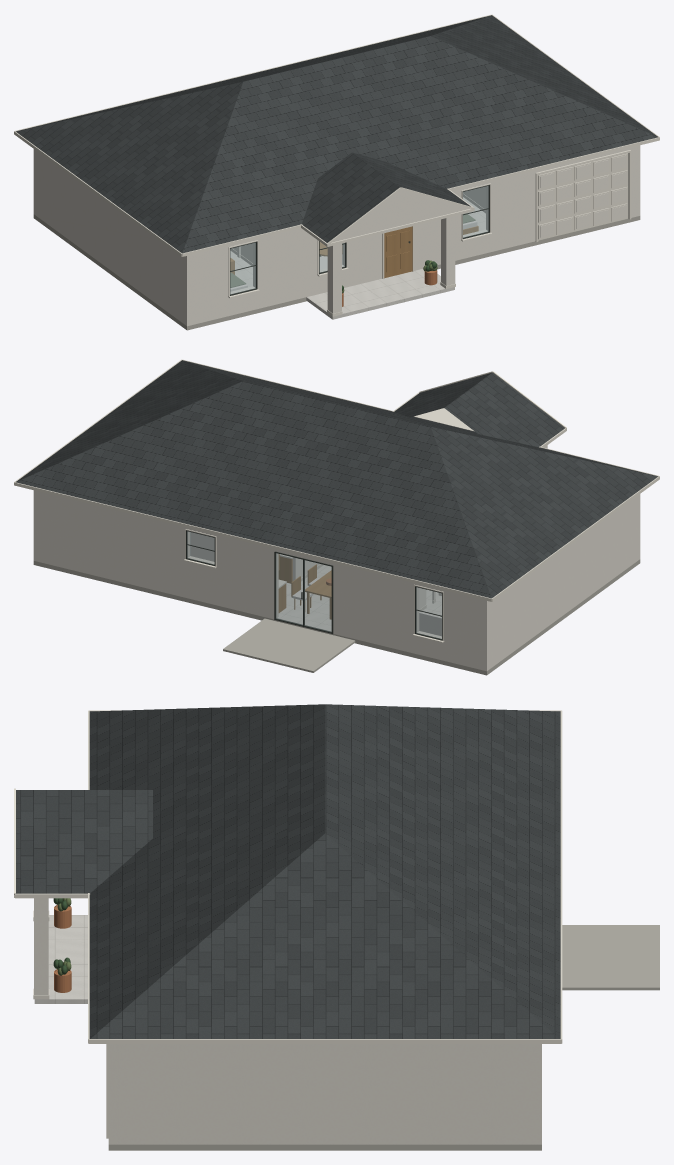
File: bell.glb
3 renders of one model, top to bottom at view 1: azimuth 30°, elevation 25°; view 2: azimuth 150°, elevation 25°; view 3: azimuth 270°, elevation 25°, orthographic. The views are drawn at different scales.
Parts seen in each view (by area): view 1: 90 Cubierta principal · ocultable, 10 Fachada delantera, 12 Fachada izquierda, 47 Puerta garaje, 92 Cubierta porche · ocultable, 91 Fascia principal · ocultable, 01 Porche de entrada, 93 Tímpano porche · ocultable, 41 Vidrios, 00 Losa principal, 50 Columnas porche, 45 Acceso principal (+4 smaller); view 2: 90 Cubierta principal · ocultable, 11 Fachada posterior, 12 Fachada izquierda, 92 Cubierta porche · ocultable, 41 Vidrios, 02 Patio posterior 10 × 8 pies, 91 Fascia principal · ocultable, 00 Losa principal, 03 Piso interior, 64 Comedor · mobiliario, 44 Puerta corrediza posterior, 65 Cocina · mobiliario (+4 smaller); view 3: 90 Cubierta principal · ocultable, 13 Fachada derecha, 92 Cubierta porche · ocultable, 02 Patio posterior 10 × 8 pies, 91 Fascia principal · ocultable, 00 Losa principal, 01 Porche de entrada, 50 Columnas porche, 71 Macetas de porche, 10 Fachada delantera, 11 Fachada posterior, 95 Fascia porche · ocultable.
Boxes of the visible parts, x1,y1,x2,y2 form: 90 Cubierta principal · ocultable: (16,15,657,253); 10 Fachada delantera: (183,145,640,326); 12 Fachada izquierda: (37,151,183,323); 47 Puerta garaje: (535,150,631,242); 92 Cubierta porche · ocultable: (302,152,470,242); 91 Fascia principal · ocultable: (14,14,659,256); 01 Porche de entrada: (306,269,454,319); 93 Tímpano porche · ocultable: (332,189,469,242); 41 Vidrios: (230,186,488,294); 00 Losa principal: (33,214,640,330); 50 Columnas porche: (327,216,455,316); 45 Acceso principal: (382,226,413,278); 90 Cubierta principal · ocultable: (16,360,657,598); 11 Fachada posterior: (33,490,490,671); 12 Fachada izquierda: (490,496,636,668); 92 Cubierta porche · ocultable: (394,372,564,447); 41 Vidrios: (187,531,441,638); 02 Patio posterior 10 × 8 pies: (223,618,355,672); 91 Fascia principal · ocultable: (14,359,659,601); 00 Losa principal: (33,559,640,675); 03 Piso interior: (277,565,441,631); 64 Comedor · mobiliario: (291,564,331,619); 44 Puerta corrediza posterior: (274,551,333,633); 65 Cocina · mobiliario: (190,532,292,612); 90 Cubierta principal · ocultable: (89,704,560,1038); 13 Fachada derecha: (118,1044,531,1144); 92 Cubierta porche · ocultable: (16,790,152,893); 02 Patio posterior 10 × 8 pies: (562,925,659,990); 91 Fascia principal · ocultable: (88,710,562,1043); 00 Losa principal: (108,1144,541,1150); 01 Porche de entrada: (34,915,87,1003); 50 Columnas porche: (33,898,49,999); 71 Macetas de porche: (53,898,71,992); 10 Fachada delantera: (108,1044,118,1144); 11 Fachada posterior: (532,1044,541,1144); 95 Fascia porche · ocultable: (14,788,89,898).
Bounding box in the file's own units: 16.08 × 5.14 × 13.33.
Materials: 20 (5 with a texture image).
